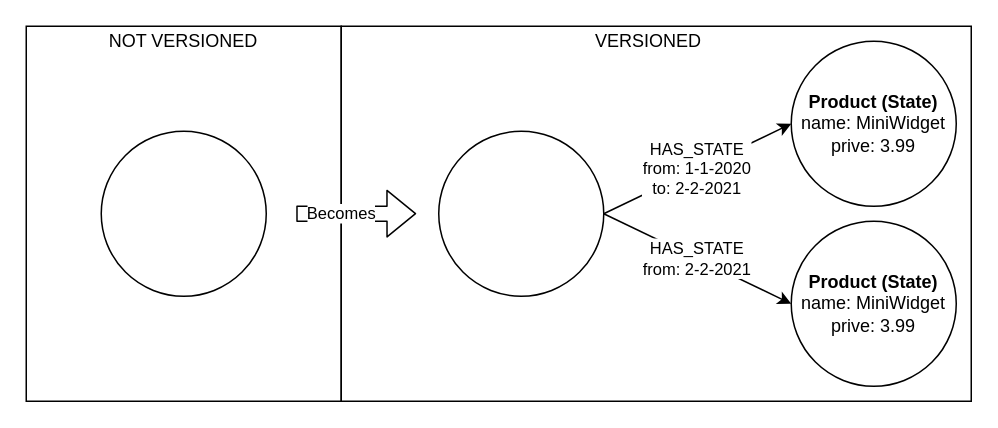
This 998x428 diagram has some shape labels left out. Each missing label, with the centre of its shape:
Product (Identity) id: 123: pixel 520 213
Product id: 123 name: MiniWidget prive: 3.99: pixel 183 213
